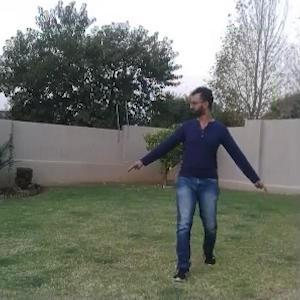land: (124, 85, 275, 284)
